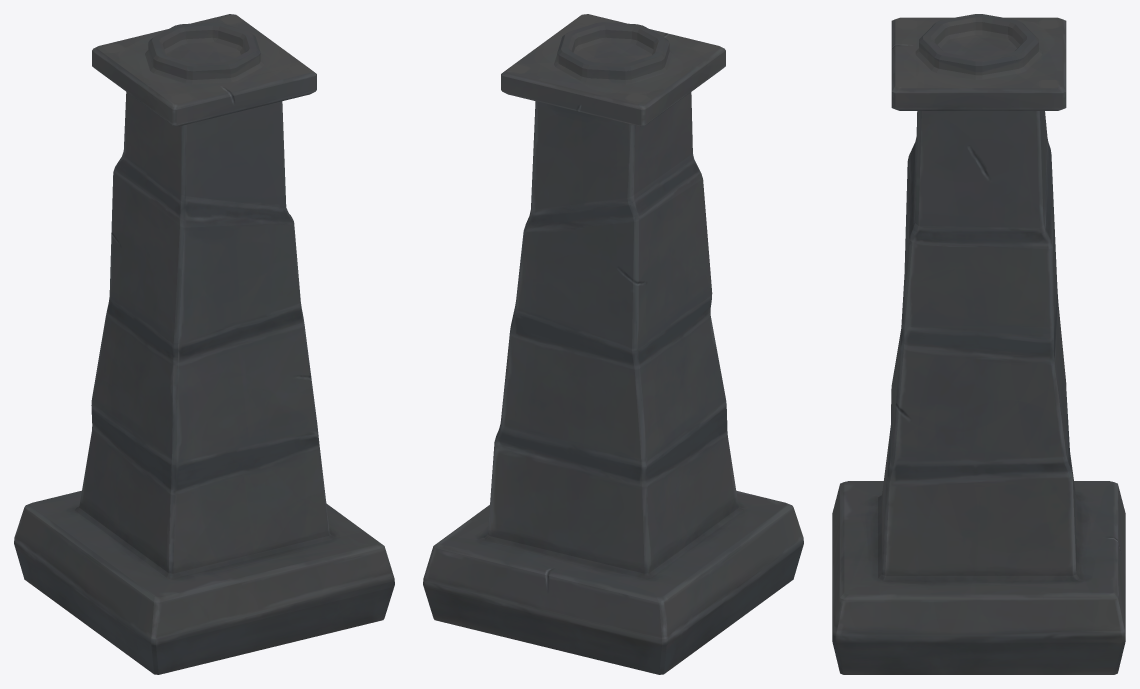
File: torch.glb
The picture shows the model from 3 angles, left to right: view 1: azimuth 30°, elevation 25°; view 2: azimuth 150°, elevation 25°; view 3: azimuth 270°, elevation 25°; orthographic projection. The views are drawn at different scales.
Parts seen in each view (by area): view 1: Cube.001; view 2: Cube.001; view 3: Cube.001.
Part boxes in pixels (box(x1,y1,x2,y2)): Cube.001: box(14, 14, 394, 674); Cube.001: box(423, 14, 803, 674); Cube.001: box(832, 14, 1125, 674).
Bounding box in the file's own units: 0.8517 × 1.85 × 0.8517.
Materials: 1 (1 with a texture image).
